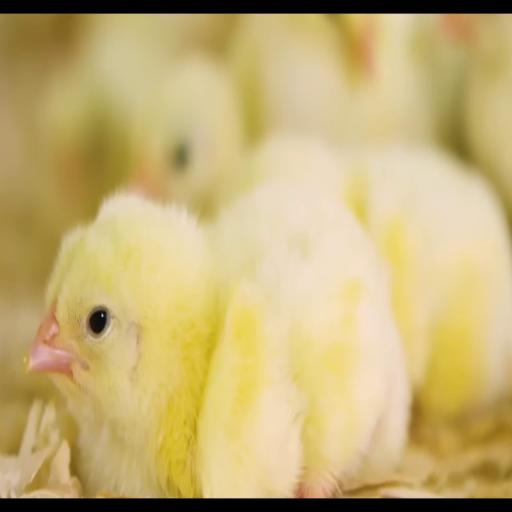chick: (27, 181, 409, 497), (131, 53, 246, 217)
